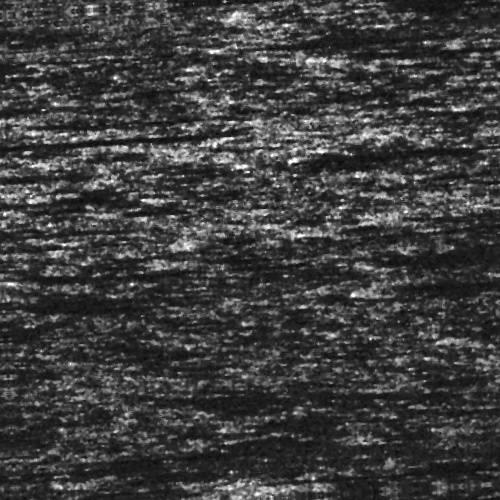object: (271, 56, 386, 67), (189, 475, 272, 486), (329, 292, 392, 305), (0, 282, 28, 299), (259, 157, 342, 162), (0, 262, 51, 269), (210, 45, 251, 50), (0, 231, 13, 236)
shadow: (0, 282, 150, 299), (328, 56, 500, 67), (19, 262, 278, 269), (361, 292, 500, 305), (0, 183, 100, 198), (0, 216, 152, 225), (0, 126, 94, 137), (301, 157, 500, 162), (231, 475, 319, 486), (230, 45, 411, 50), (0, 231, 68, 236)
